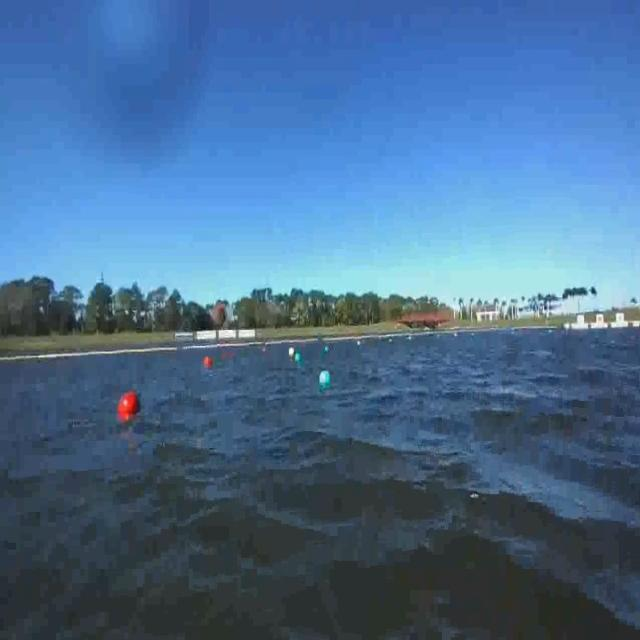green-buoy: (322, 369, 334, 386), (294, 352, 301, 364)
red-buoy: (118, 389, 143, 423), (204, 355, 213, 368)
